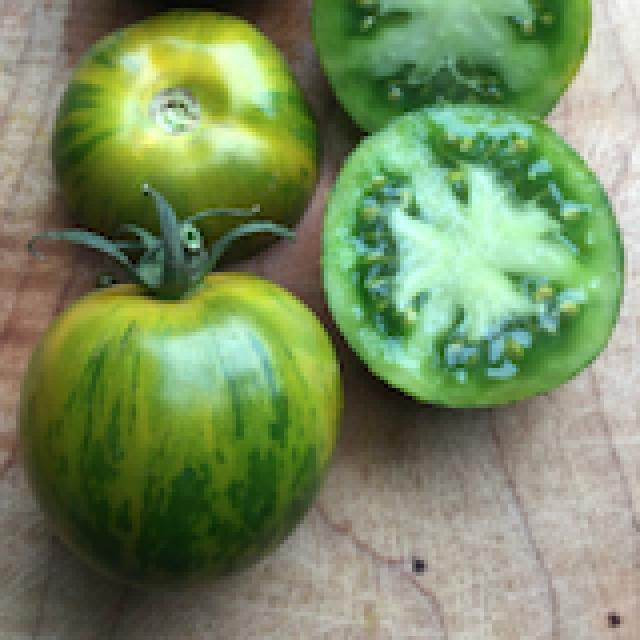yesil: (20, 35, 611, 580)
